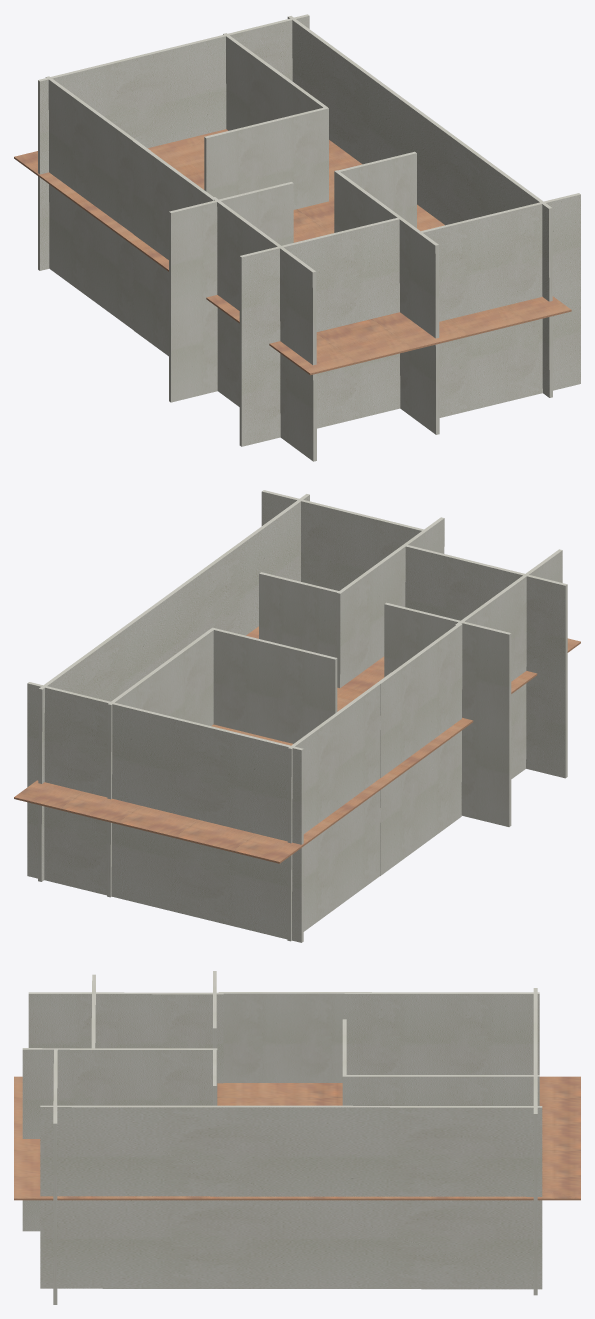
File: ground2.FBX
3 views of the same model, one above another, from view 1: azimuth 30°, elevation 25°; view 2: azimuth 150°, elevation 25°; view 3: azimuth 270°, elevation 25° (orthographic). The views are drawn at different scales.
Parts seen in each view (by area): view 1: Box014, Box011, Box015, Box004, Box003, Box001, Box012, Box009, Box005, Box010, Box007, Box002 (+1 smaller); view 2: Box004, Box015, Box003, Box007, Box011, Box012, Box005, Box001, Box014, Box010, Box002, Box016 (+1 smaller); view 3: Box015, Box003, Box001, Box010, Box007, Box009, Box002, Box004, Box014.
Boxes of the visible parts, x1,y1,x2,y2 form: Box014: (421,193,580,417); Box011: (239,217,400,446); Box015: (287,16,552,397); Box004: (38,14,309,270); Box003: (45,76,150,329); Box001: (14,129,571,375); Box012: (169,182,293,402); Box009: (212,197,316,461); Box005: (204,107,328,209); Box010: (334,170,439,434); Box007: (133,140,213,356); Box002: (223,33,327,130); Box004: (27,682,303,942); Box015: (38,494,309,881); Box003: (287,672,391,941); Box007: (378,624,462,875); Box011: (405,545,567,778); Box012: (384,602,511,826); Box005: (211,627,337,743); Box001: (14,626,580,863); Box014: (261,490,423,590); Box010: (336,517,444,687); Box002: (107,629,213,897); Box016: (259,572,338,657); Box015: (40,1105,542,1289); Box003: (344,992,539,1074); Box001: (14,1076,580,1200); Box010: (22,1048,217,1231); Box007: (218,992,371,1082); Box009: (28,992,223,1083); Box002: (344,1075,539,1105); Box004: (533,988,537,1295); Box014: (53,1049,57,1304).
Bounding box in the file's own units: 1840 × 2890 × 1020.
2 materials, 2 textured.
